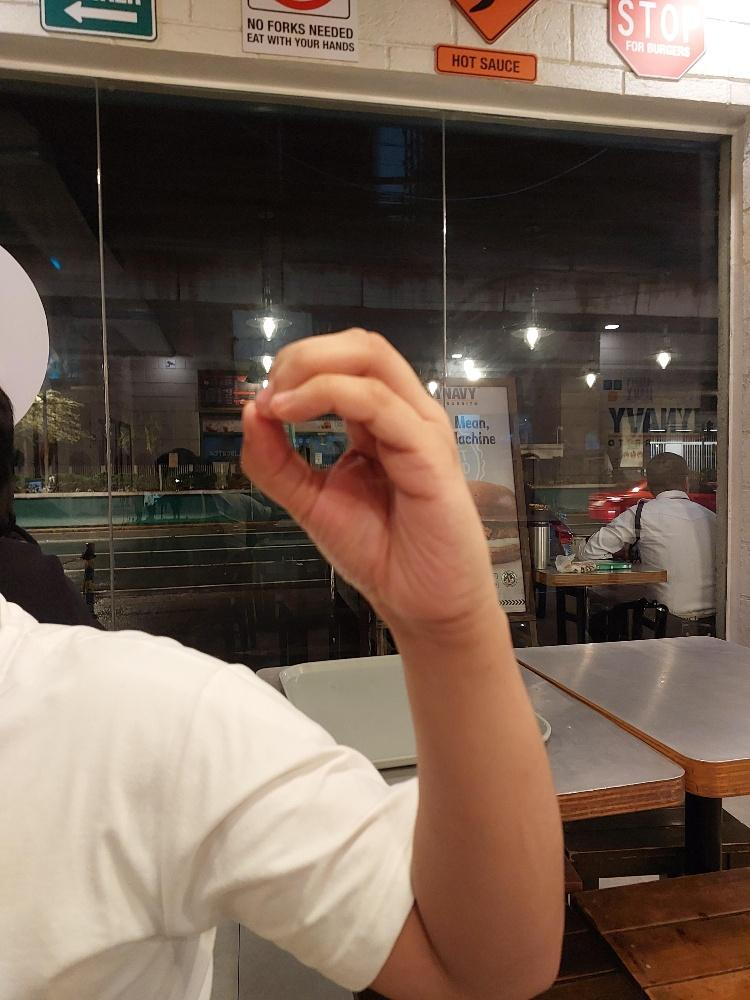o: (235, 325, 490, 625)
